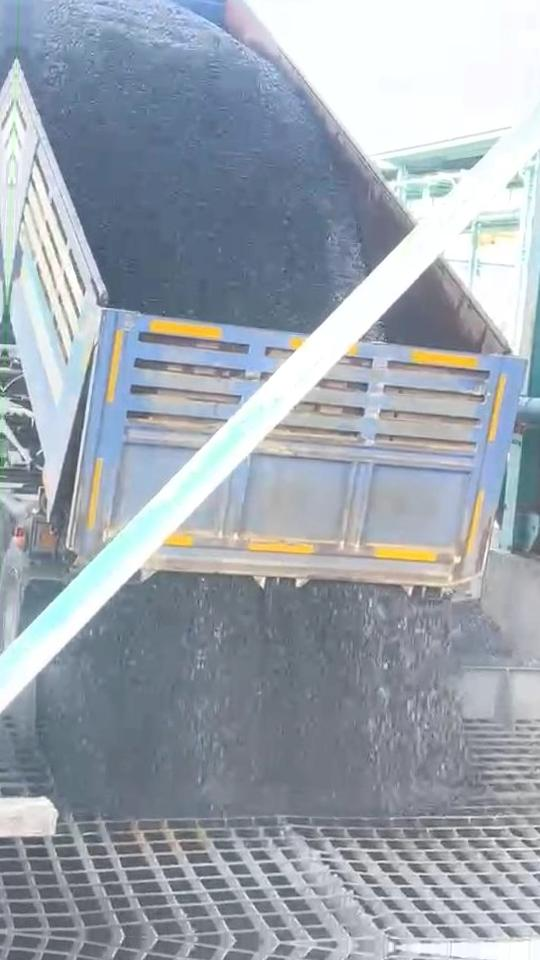gravel: (20, 0, 365, 329), (39, 577, 467, 817), (452, 602, 540, 666)
